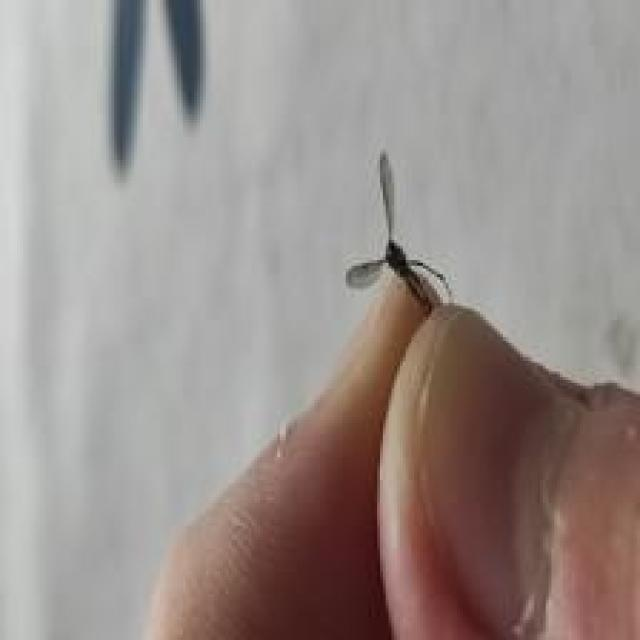Aedes albopictus: (344, 149, 453, 314)
